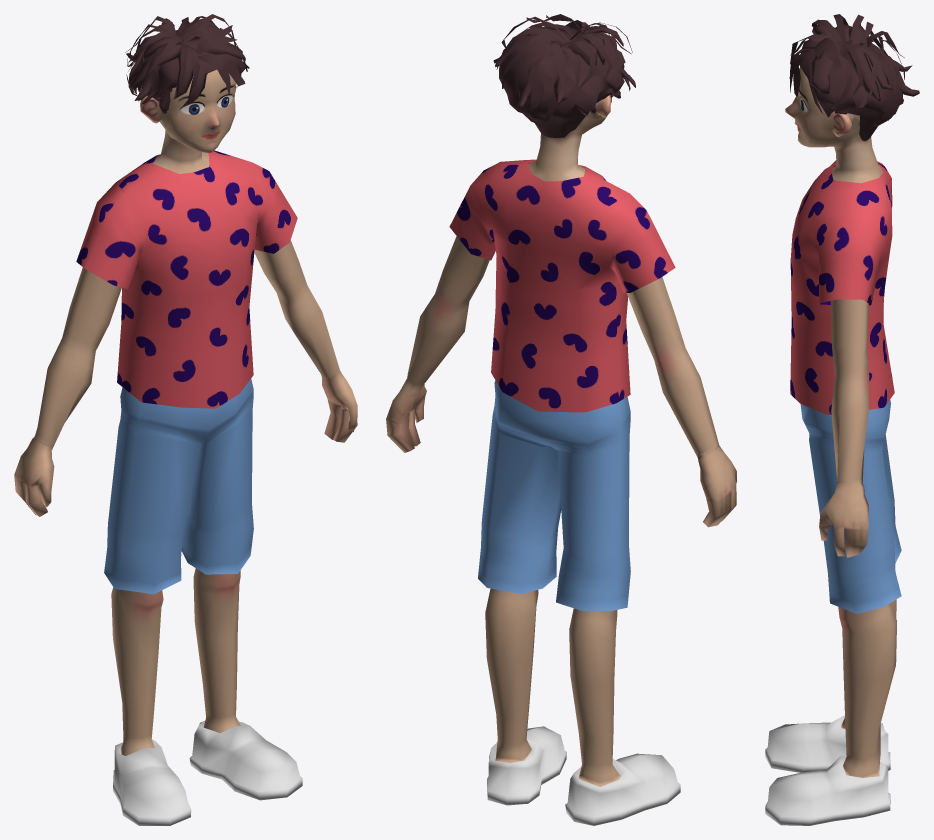
The model's file is hero_v2.fbx.
3 renders of one model, left to right at view 1: azimuth 30°, elevation 25°; view 2: azimuth 150°, elevation 25°; view 3: azimuth 270°, elevation 25°, orthographic. The views are drawn at different scales.
Parts seen in each view (by area): view 1: body, hair1, hair2; view 2: body, hair1, hair2; view 3: body, hair1, hair2.
Part boxes in pixels (x1,y1,x2,y2): body: [14, 69, 357, 825]; hair1: [126, 18, 249, 113]; hair2: [125, 14, 247, 95]; body: [386, 95, 736, 825]; hair1: [493, 24, 635, 137]; hair2: [500, 14, 632, 97]; body: [765, 66, 901, 825]; hair1: [797, 24, 919, 141]; hair2: [789, 14, 904, 108].
Bounding box in the file's own units: 536 × 1187 × 220.
Materials: 2 (1 with a texture image).
